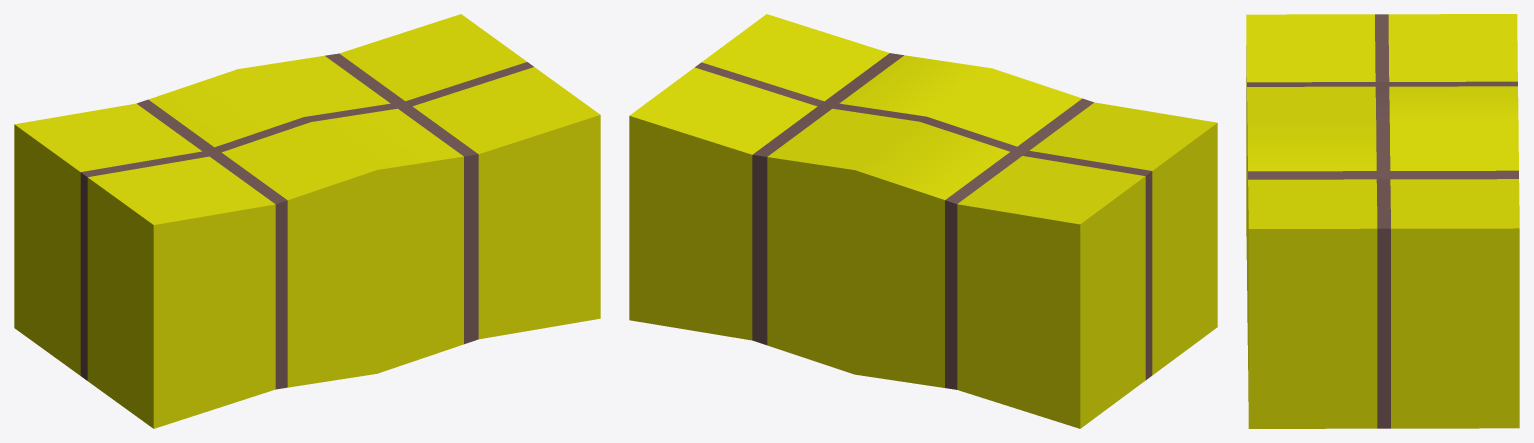
File: dong_rom.fbx
The picture shows the model from 3 angles, left to right: view 1: azimuth 30°, elevation 25°; view 2: azimuth 150°, elevation 25°; view 3: azimuth 270°, elevation 25°; orthographic projection. The views are drawn at different scales.
Parts seen in each view (by area): view 1: dong_rom; view 2: dong_rom; view 3: dong_rom.
Part boxes in pixels (left/top/right/bottom): dong_rom: left=14, top=14, right=600, bottom=428; dong_rom: left=629, top=14, right=1217, bottom=428; dong_rom: left=1246, top=14, right=1519, bottom=428.
Size of the model in its own units: 52.52 by 22.76 by 28.24.
